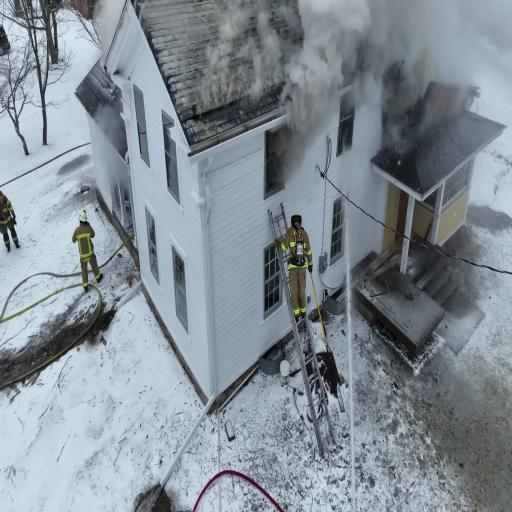smoke: (313, 8, 477, 66)
